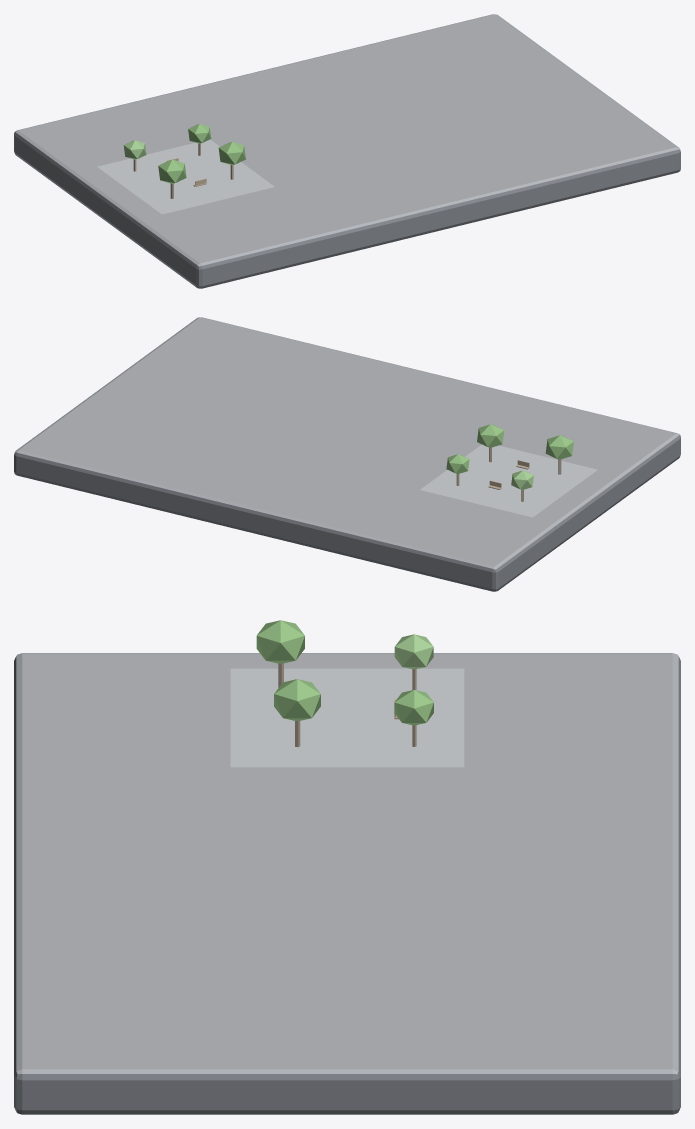
The model's file is Ground.glb.
3 views of the same model, one above another, from view 1: azimuth 30°, elevation 25°; view 2: azimuth 150°, elevation 25°; view 3: azimuth 270°, elevation 25° (orthographic). The views are drawn at different scales.
Parts seen in each view (by area): view 1: BasePlate, plaza_pad, zleaf0, zleaf1; view 2: BasePlate, plaza_pad, zleaf0, zleaf1; view 3: BasePlate, plaza_pad, zleaf0, zleaf1, zleaf3, zleaf2.
Part boxes in pixels (x1=…): BasePlate: x1=14, y1=14, x2=680, y2=288; plaza_pad: x1=97, y1=139, x2=274, y2=214; zleaf0: x1=158, y1=159, x2=186, y2=183; zleaf1: x1=218, y1=141, x2=245, y2=165; BasePlate: x1=14, y1=317, x2=680, y2=591; plaza_pad: x1=420, y1=444, x2=597, y2=517; zleaf0: x1=545, y1=435, x2=573, y2=459; zleaf1: x1=477, y1=424, x2=504, y2=447; BasePlate: x1=14, y1=653, x2=680, y2=1114; plaza_pad: x1=230, y1=668, x2=464, y2=767; zleaf0: x1=256, y1=620, x2=304, y2=663; zleaf1: x1=274, y1=679, x2=320, y2=720; zleaf3: x1=394, y1=690, x2=433, y2=725; zleaf2: x1=394, y1=634, x2=433, y2=669.
Bounding box in the file's own units: 60 × 7.76 × 40.
